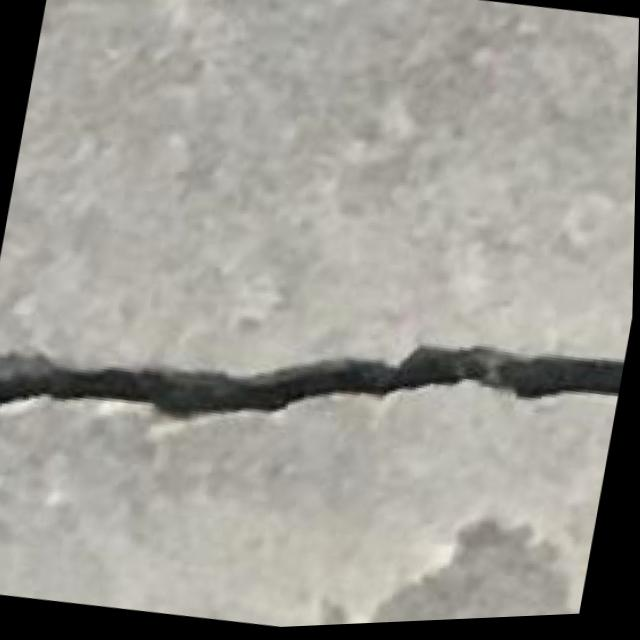Crack: (0, 254, 630, 543)
